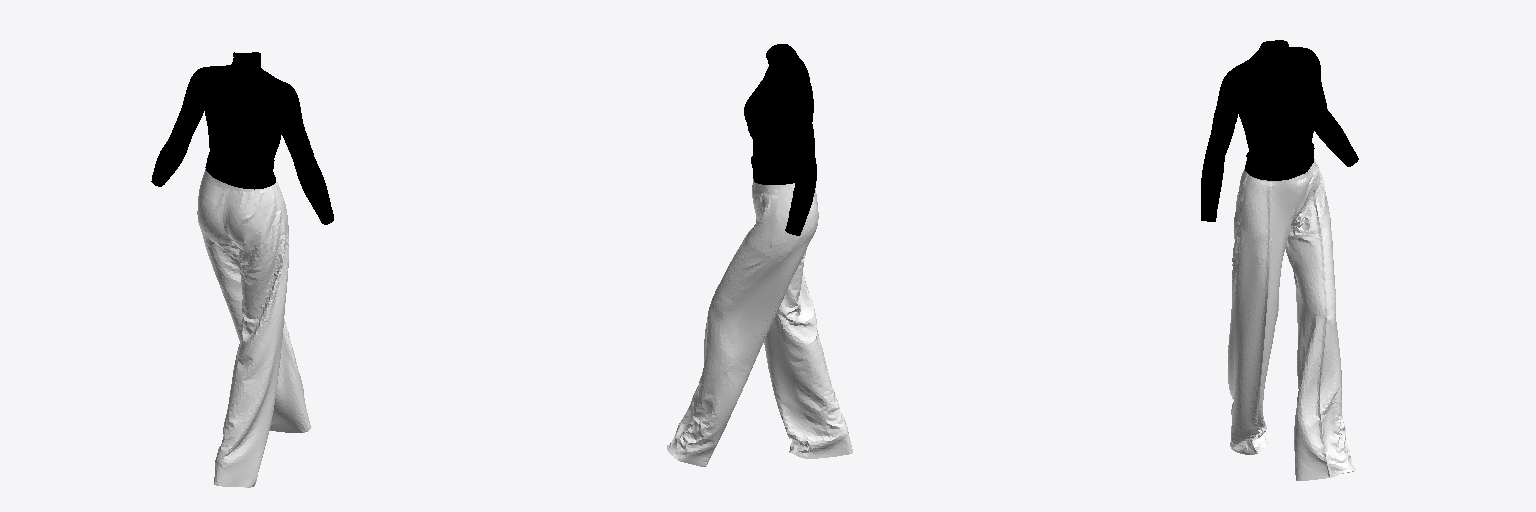
Rendered from DA_HighNeck+WidePants_0000162.obj.
3 renders of one model, left to right at view 1: azimuth 30°, elevation 25°; view 2: azimuth 150°, elevation 25°; view 3: azimuth 270°, elevation 25°, orthographic.
Size of the model in its own units: 0.5718 by 1.62 by 0.5613.